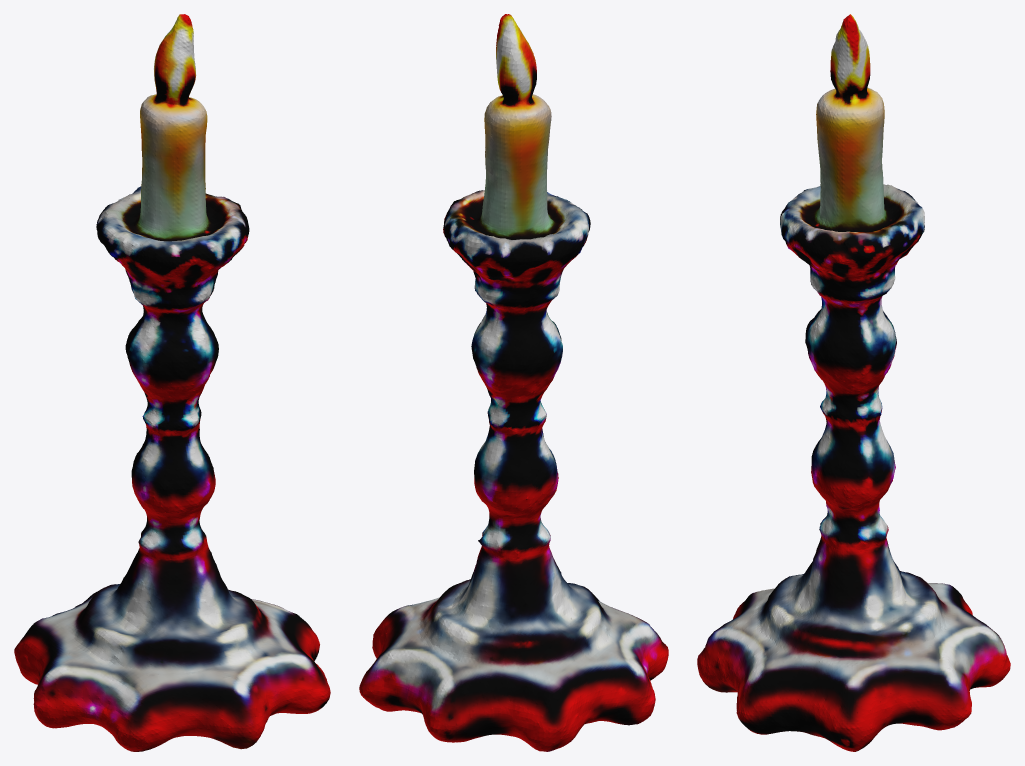
The picture shows the model from 3 angles, left to right: view 1: azimuth 30°, elevation 25°; view 2: azimuth 150°, elevation 25°; view 3: azimuth 270°, elevation 25°; orthographic projection.
Visible parts, largest first — view 1: 387_ep00032_it000003000; view 2: 387_ep00032_it000003000; view 3: 387_ep00032_it000003000.
Part boxes in pixels (x1,y1,x2,y2): 387_ep00032_it000003000: (14,14,330,751); 387_ep00032_it000003000: (359,14,668,751); 387_ep00032_it000003000: (697,14,1010,751).
Size of the model in its own units: 0.6777 by 1.63 by 0.6623.
